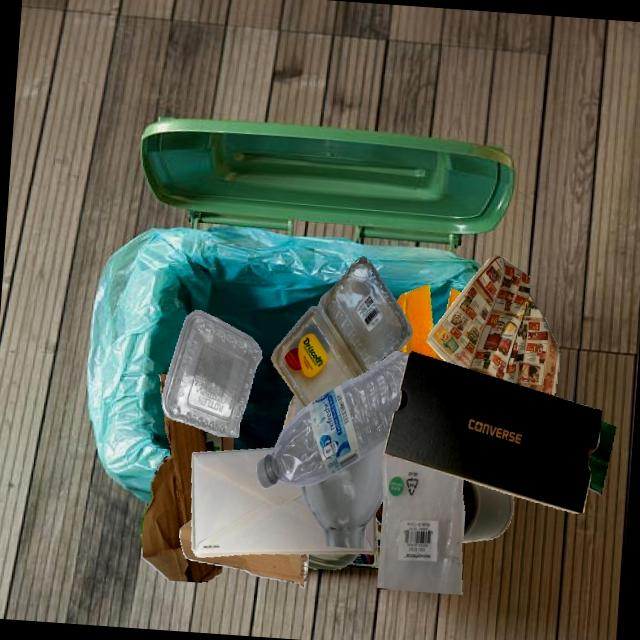biowaste: (396, 284, 445, 361)
cardboard: (383, 350, 602, 513), (140, 411, 233, 582), (179, 519, 308, 588), (511, 494, 514, 497)
glass: (300, 438, 387, 548), (462, 479, 513, 542), (588, 421, 616, 494), (307, 553, 358, 569), (282, 395, 297, 430)
paper: (191, 447, 375, 557), (426, 255, 560, 395), (345, 516, 381, 568)
plastic: (271, 256, 412, 407), (256, 350, 409, 489), (376, 447, 464, 594), (161, 310, 261, 437)
